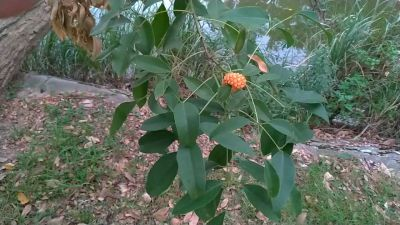eggs: (221, 69, 249, 93)
